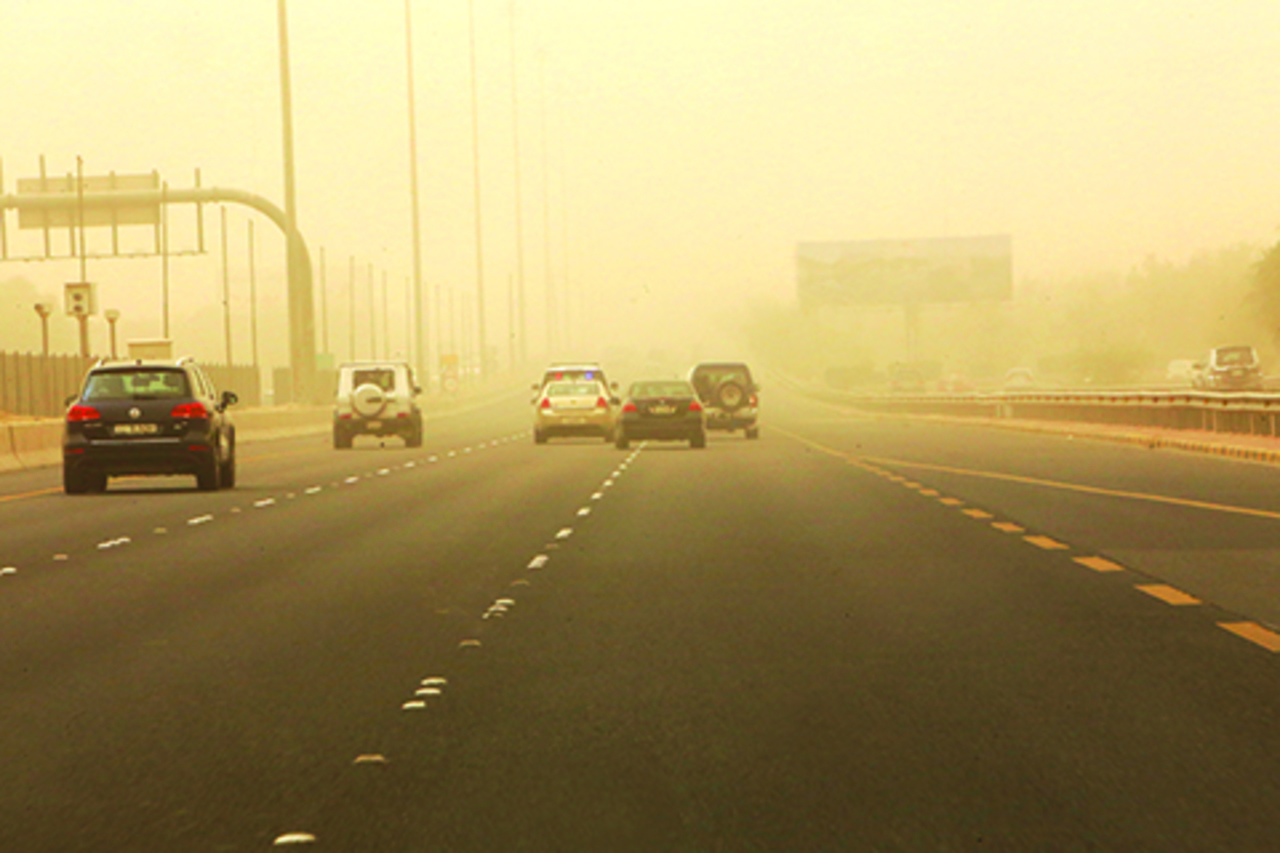car: (62, 361, 238, 496), (327, 361, 424, 449), (613, 377, 708, 449), (689, 361, 762, 440), (532, 376, 609, 444), (1193, 342, 1260, 391), (531, 363, 620, 390), (1002, 362, 1037, 389), (894, 367, 924, 395)
